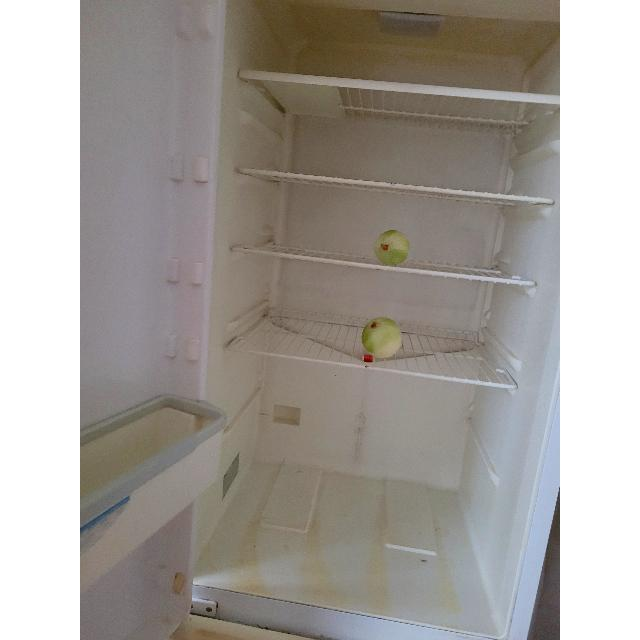onion: (361, 316, 403, 358), (374, 230, 411, 266)
